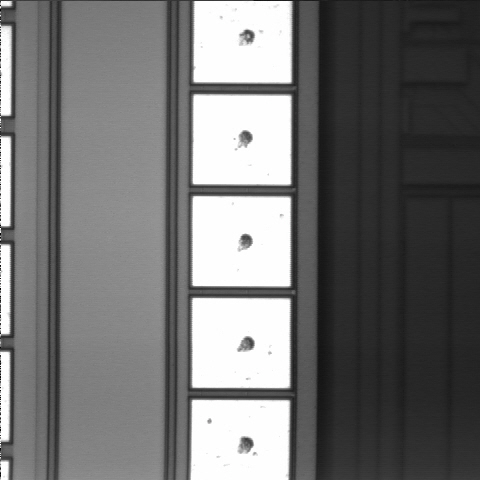pad: (192, 196, 291, 286), (193, 95, 291, 185), (192, 298, 290, 388)
